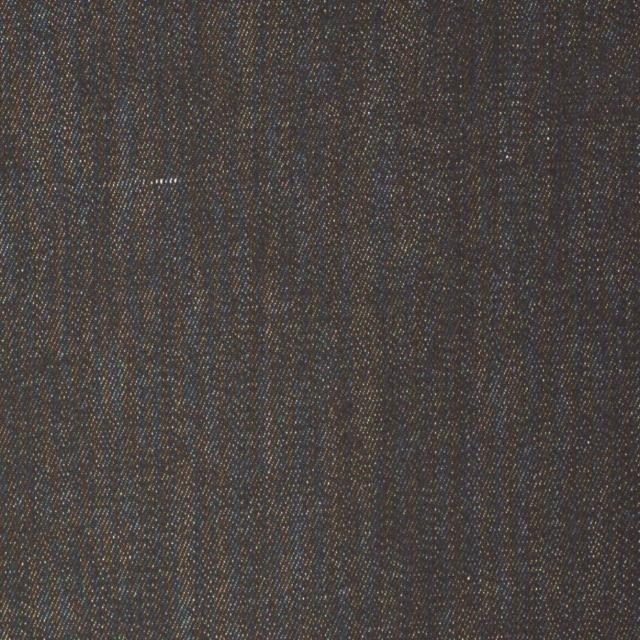Warp_Weft: (104, 175, 181, 188)
